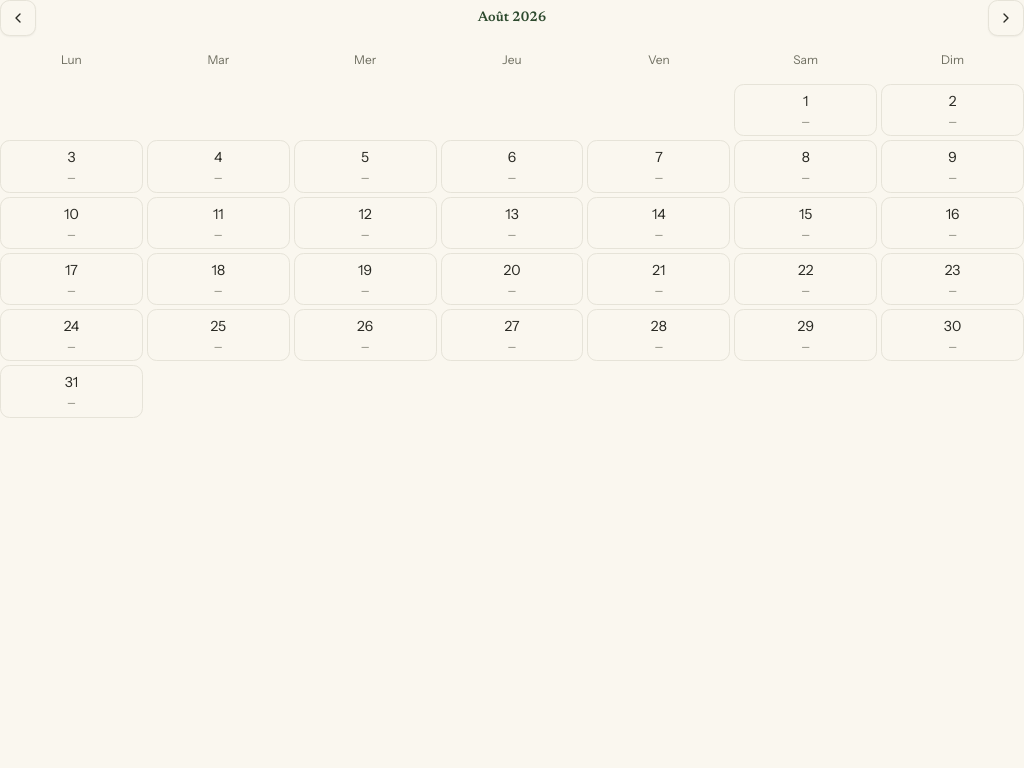
Test: AttendanceCalendar › ouvre le dialogue de pointage au clic sur un jour (rôle avec accès écriture)
Click the button "15 —".
click(806, 223)  # box [734,197,877,249]
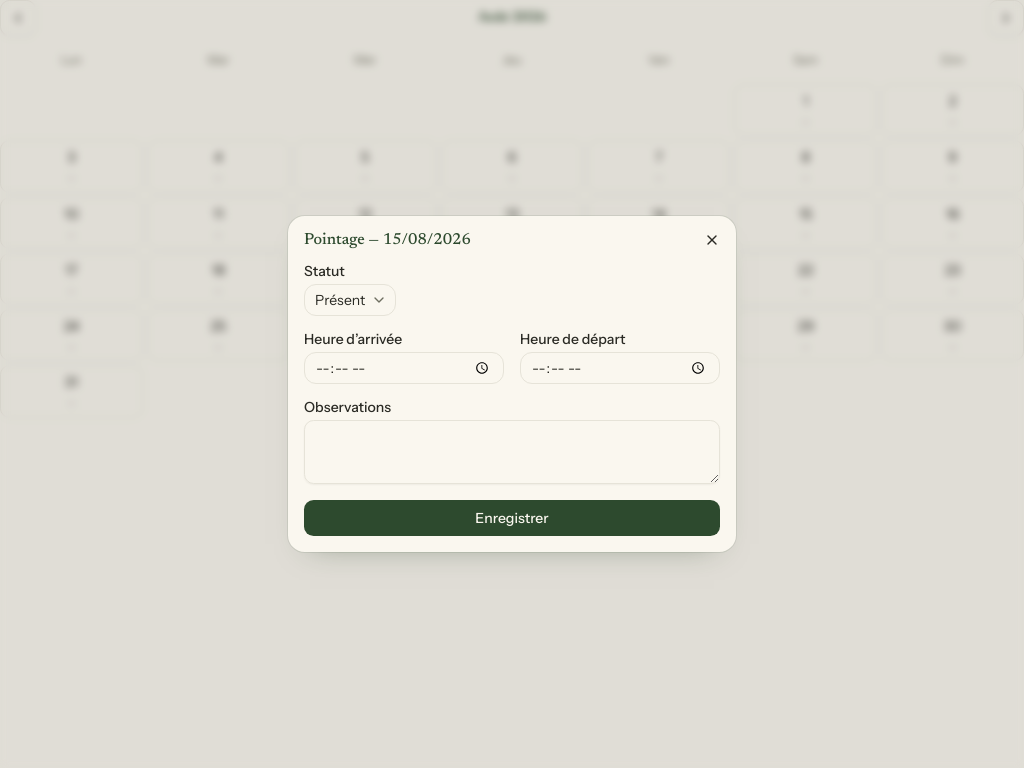
Now the dialog is shown, box [288,216,736,552]
